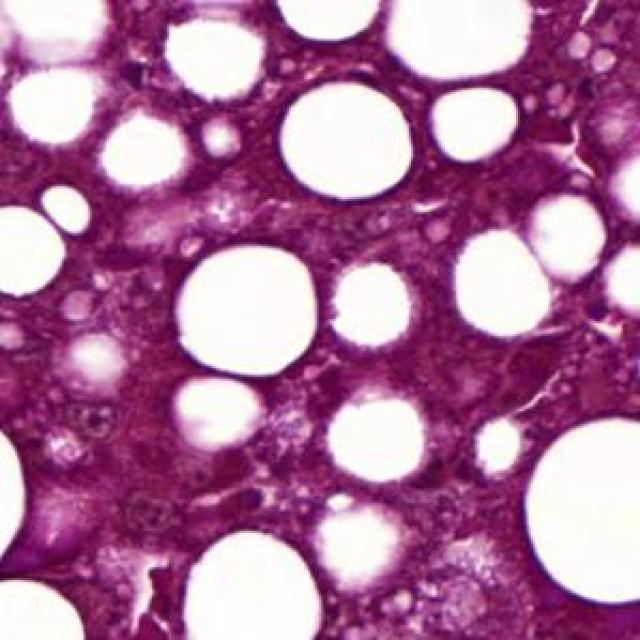steatosis: (526, 417, 640, 603), (175, 242, 319, 372), (281, 79, 413, 206), (430, 86, 520, 167), (0, 576, 86, 640), (280, 0, 379, 41), (0, 424, 24, 571)
